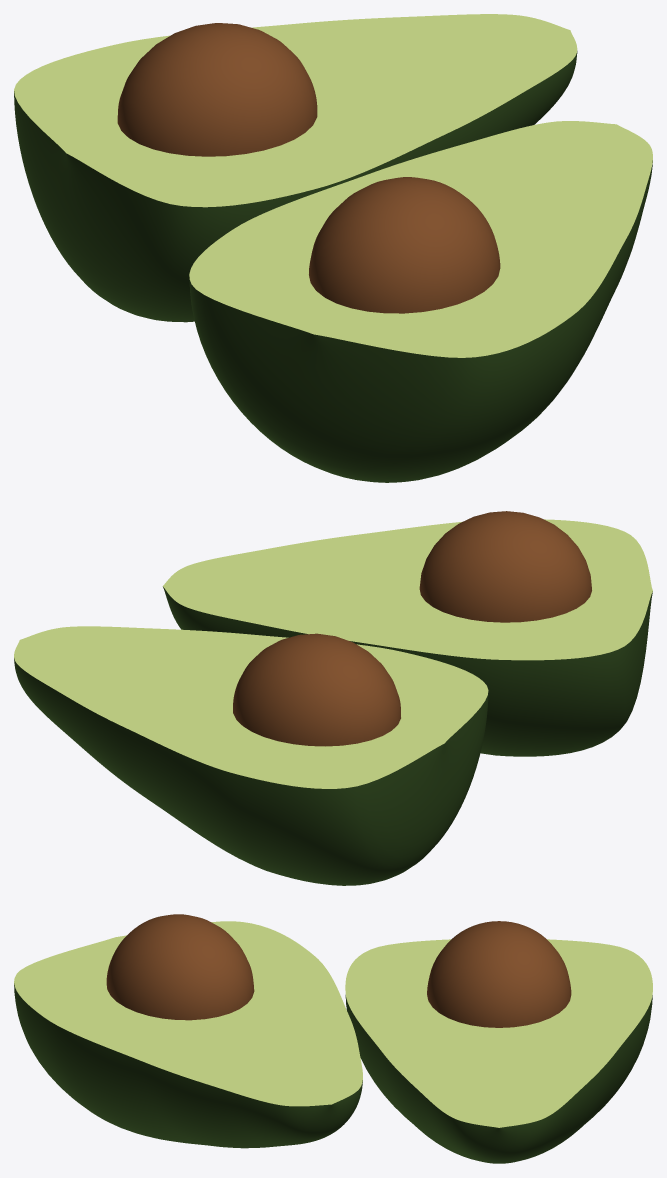
Rendered from aguacate.glb.
The picture shows the model from 3 angles, top to bottom: view 1: azimuth 30°, elevation 25°; view 2: azimuth 150°, elevation 25°; view 3: azimuth 270°, elevation 25°; orthographic projection. The views are drawn at different scales.
Size of the model in its own units: 0.1084 by 0.0501 by 0.1415.
